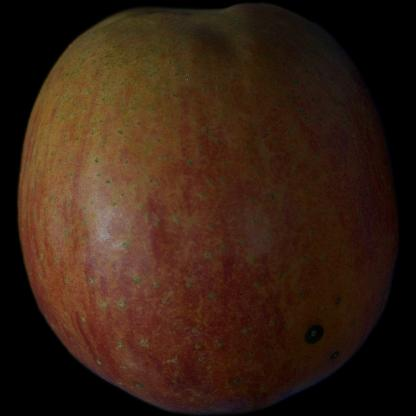defect: (289, 289, 343, 369)
